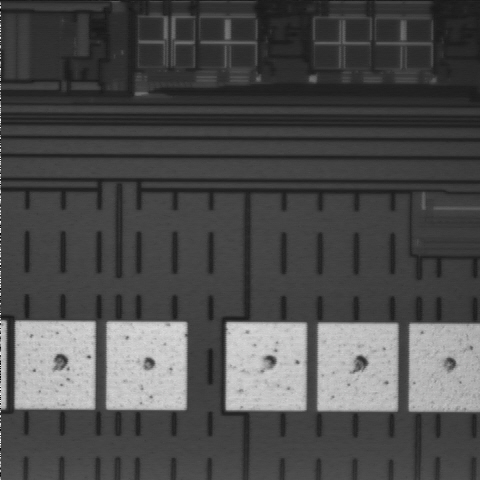pad: (226, 322, 306, 410), (15, 322, 95, 409), (107, 322, 186, 410), (318, 324, 397, 410)
